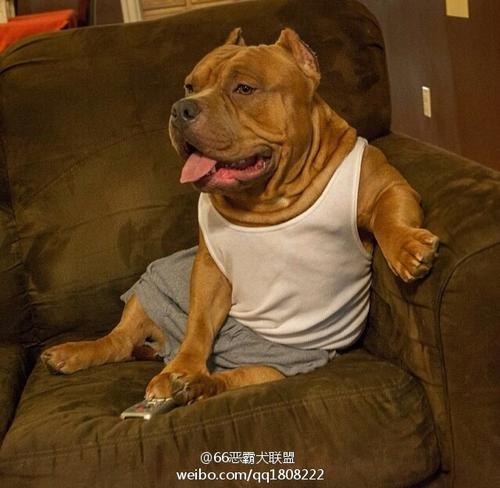dog: (126, 25, 386, 198)
